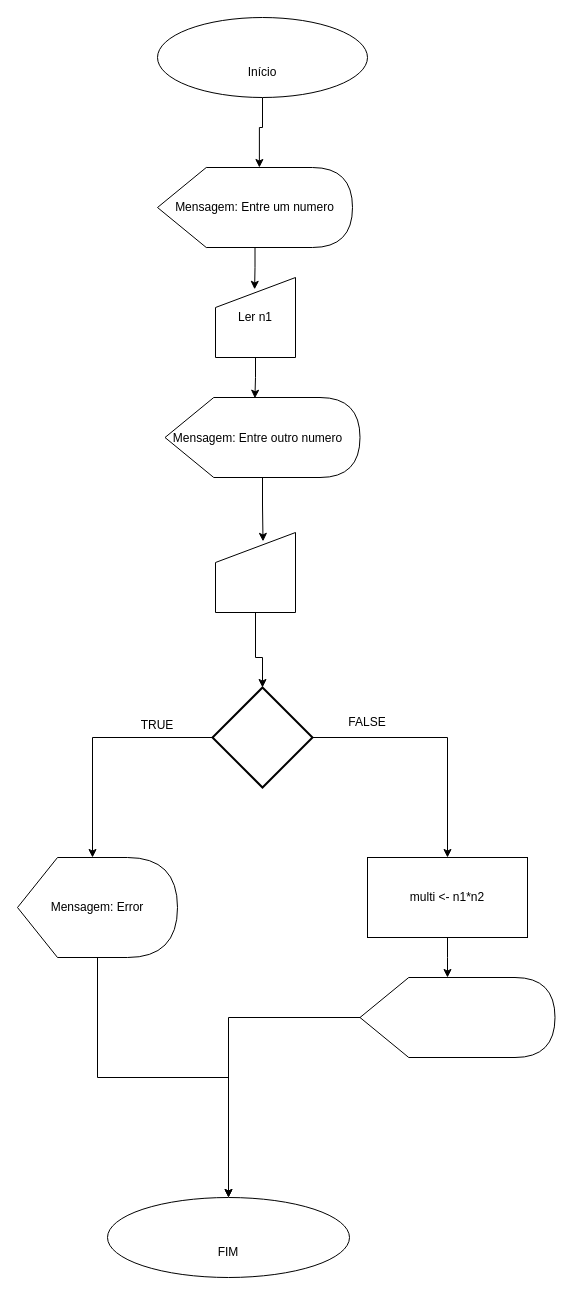
Some shapes in this 573 by 1295 pixel diagram are drawn without their labels. The shapes that lost their labels are listed below. From the top down, each one's centre as x and y in pixels, then its label:
At point (255, 572): "Ler n2".
At point (262, 737): "n1<0 ou n2 <0".
At point (457, 1017): "Mensagem: A multiplicação é: , multi".
